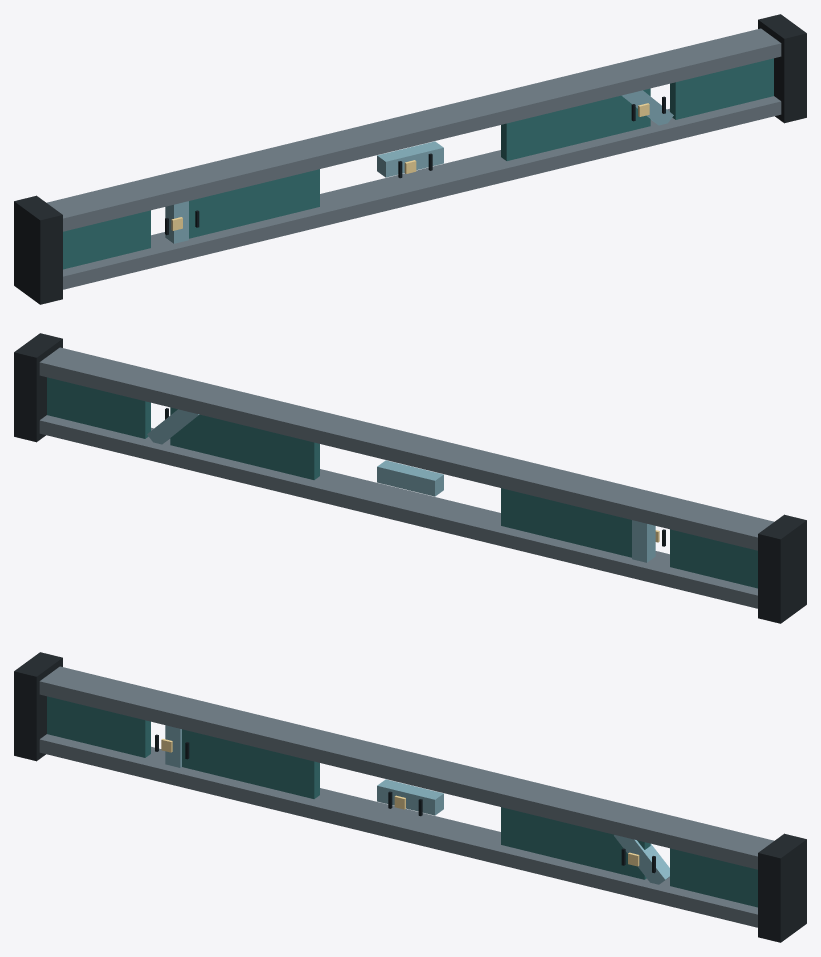
File: b06_spirit_level.glb
The picture shows the model from 3 angles, top to bottom: view 1: azimuth 30°, elevation 25°; view 2: azimuth 150°, elevation 25°; view 3: azimuth 330°, elevation 25°; orthographic projection.
Parts seen in each view (by area): view 1: b06_spirit_level; view 2: b06_spirit_level; view 3: b06_spirit_level.
Boxes of the visible parts, x1,y1,x2,y2 form: b06_spirit_level: (14, 14, 806, 304); b06_spirit_level: (14, 333, 806, 623); b06_spirit_level: (14, 652, 806, 942).
Size of the model in its own units: 0.608 by 0.064 by 0.036.
